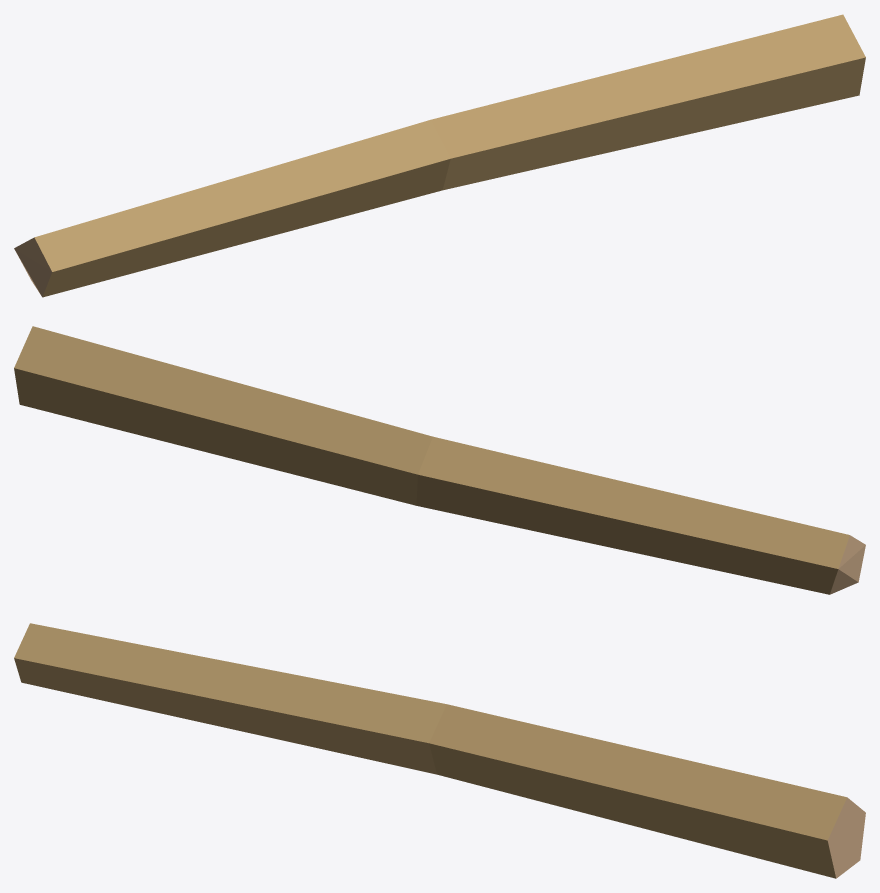
Rendered from Acacia_Log_01_LOD.fbx.
3 views of the same model, one above another, from view 1: azimuth 30°, elevation 25°; view 2: azimuth 150°, elevation 25°; view 3: azimuth 330°, elevation 25° (orthographic).
Parts seen in each view (by area): view 1: Acacia_Log_01_LOD0; view 2: Acacia_Log_01_LOD0; view 3: Acacia_Log_01_LOD0.
Part boxes in pixels (<box>): Acacia_Log_01_LOD0: <box>14,14,865,297</box>; Acacia_Log_01_LOD0: <box>14,326,865,594</box>; Acacia_Log_01_LOD0: <box>14,623,865,878</box>.
Size of what is drawn, in the model's own units: 341 by 28.36 by 33.54.
